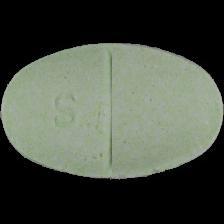68788-6381: (0, 0, 224, 224)
